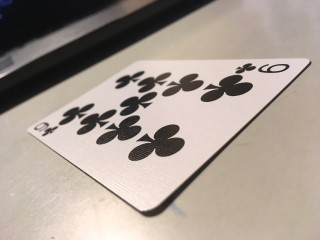NineOfClubs: (28, 60, 312, 211)
